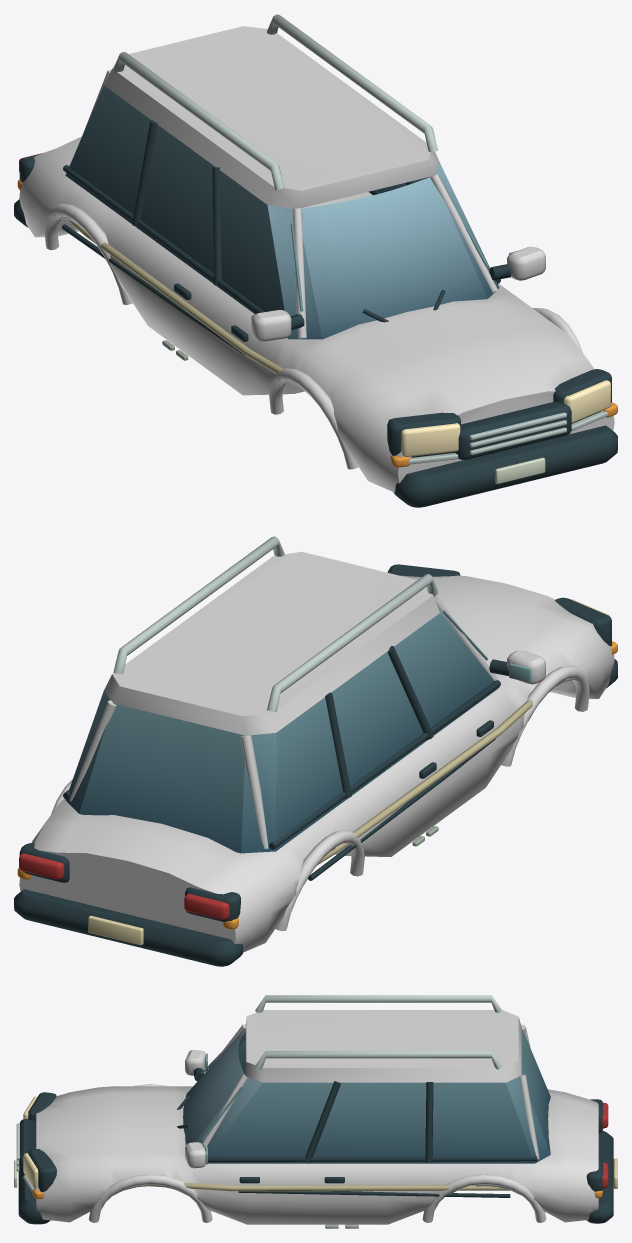
The model's file is trail.glb.
The picture shows the model from 3 angles, top to bottom: view 1: azimuth 30°, elevation 25°; view 2: azimuth 150°, elevation 25°; view 3: azimuth 270°, elevation 25°; orthographic projection. The views are drawn at different scales.
Visible parts, largest first — view 1: Chassis, Headlamps; view 2: Chassis, BrakeLamps; view 3: Chassis, Headlamps.
Part boxes in pixels (x1,y1,x2,y2): Chassis: (14,14,617,507); Headlamps: (401,380,610,456); Chassis: (14,536,617,966); BrakeLamps: (19,853,229,919); Chassis: (14,995,617,1228); Headlamps: (23,1096,38,1189).
Bounding box in the file's own units: 1.72 × 1.27 × 4.2.
